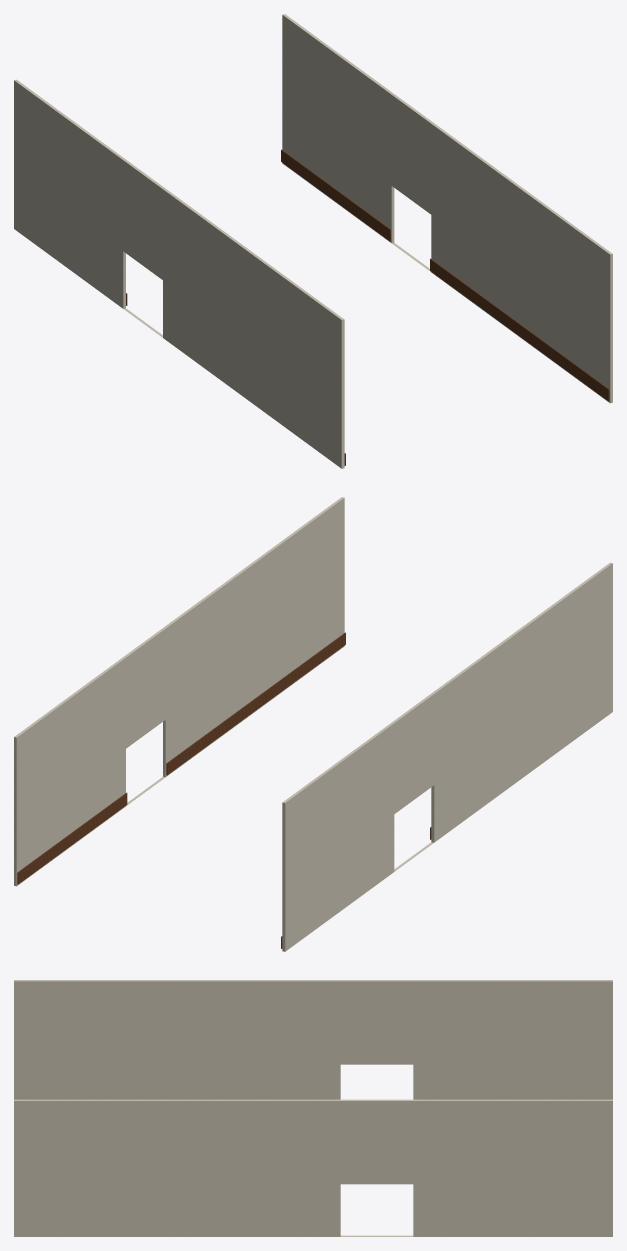
File: FORWARD_D10_DINING_PUBLIC_BRANCHES_r001.glb
The picture shows the model from 3 angles, top to bottom: view 1: azimuth 30°, elevation 25°; view 2: azimuth 150°, elevation 25°; view 3: azimuth 270°, elevation 25°; orthographic projection. The views are drawn at different scales.
Visible parts, largest first — view 1: CORE_OuterWall_09_-1_D10_PUBLIC_PORTAL, CORE_OuterWall_09_1_D10_PUBLIC_PORTAL, CORE_WallDado_09_1_D10_PUBLIC_PORTAL; view 2: CORE_OuterWall_09_-1_D10_PUBLIC_PORTAL, CORE_OuterWall_09_1_D10_PUBLIC_PORTAL, CORE_WallDado_09_1_D10_PUBLIC_PORTAL; view 3: CORE_OuterWall_09_1_D10_PUBLIC_PORTAL, CORE_OuterWall_09_-1_D10_PUBLIC_PORTAL.
Part boxes in pixels (<box>): CORE_OuterWall_09_-1_D10_PUBLIC_PORTAL: <box>14,79,344,468</box>; CORE_OuterWall_09_1_D10_PUBLIC_PORTAL: <box>282,14,612,403</box>; CORE_WallDado_09_1_D10_PUBLIC_PORTAL: <box>281,149,609,401</box>; CORE_OuterWall_09_-1_D10_PUBLIC_PORTAL: <box>282,562,612,951</box>; CORE_OuterWall_09_1_D10_PUBLIC_PORTAL: <box>14,497,344,886</box>; CORE_WallDado_09_1_D10_PUBLIC_PORTAL: <box>17,632,345,884</box>; CORE_OuterWall_09_1_D10_PUBLIC_PORTAL: <box>14,1099,612,1236</box>; CORE_OuterWall_09_-1_D10_PUBLIC_PORTAL: <box>14,980,612,1099</box>.
Size of the model in its own units: 15.76 by 8.26 by 33.
Materials: 2 (2 with a texture image).
